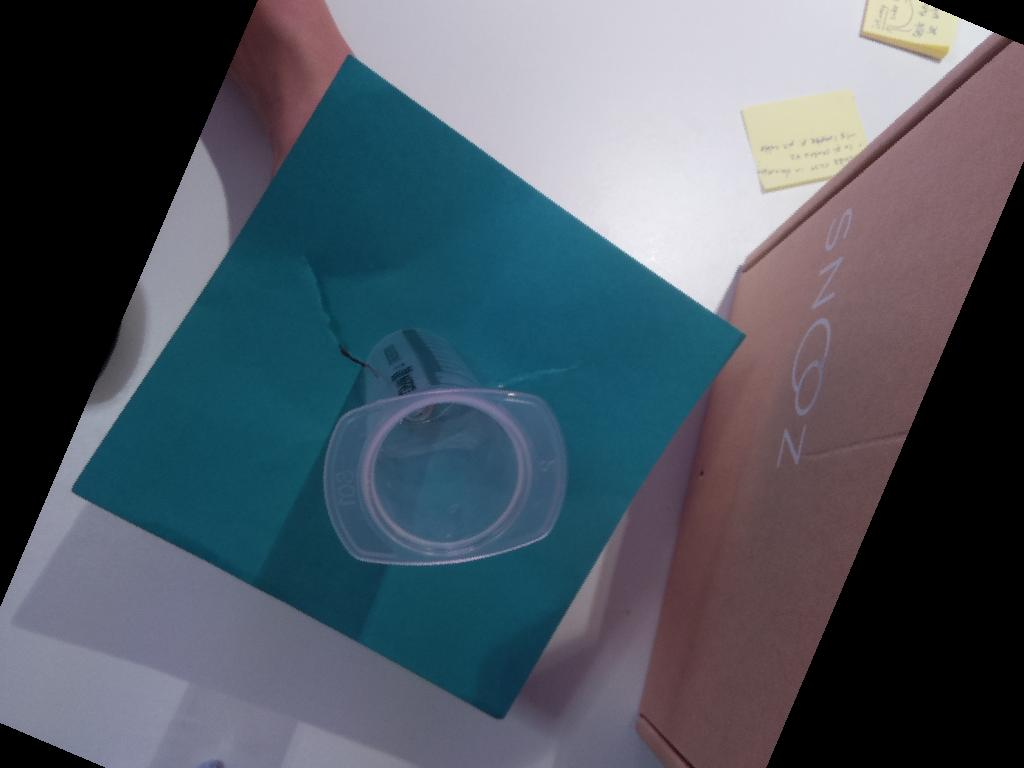clean: (320, 386, 570, 567)
